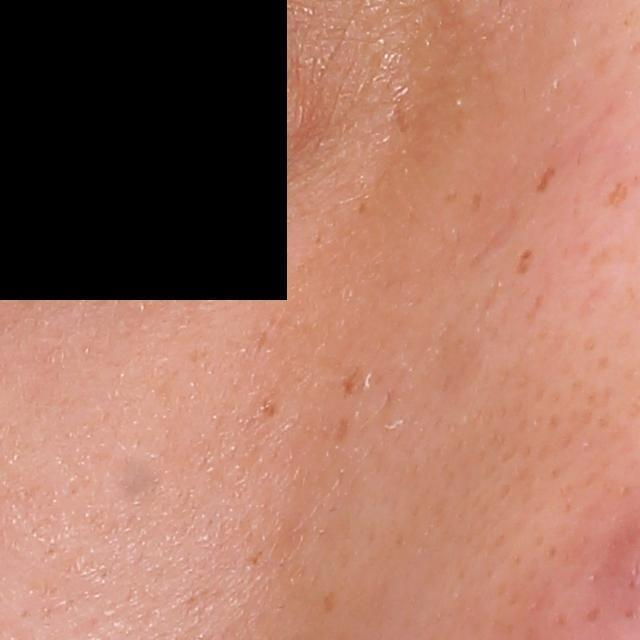melasma: (339, 364, 365, 402), (530, 162, 555, 199), (602, 178, 630, 209), (256, 394, 280, 424), (515, 243, 534, 277), (321, 590, 338, 615), (470, 188, 485, 216), (334, 419, 351, 440)
other: (106, 442, 169, 520)
